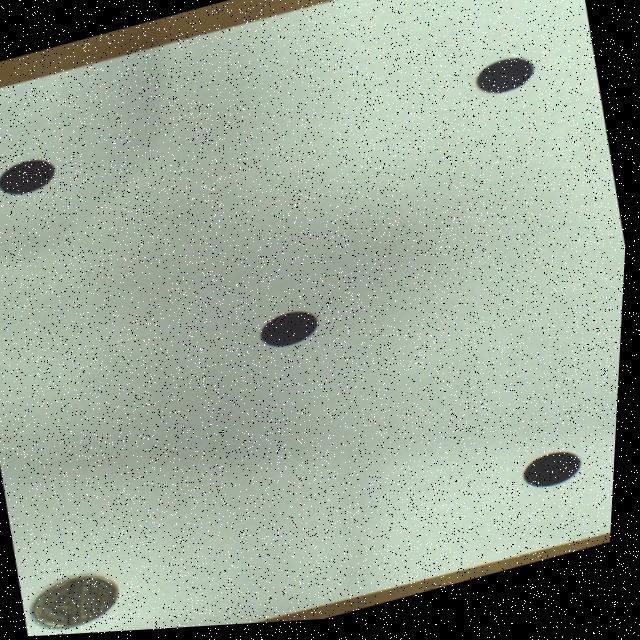space: (476, 63, 535, 98), (264, 314, 322, 349), (529, 458, 586, 493), (0, 158, 56, 193)
tail5bath: (38, 576, 124, 628)
